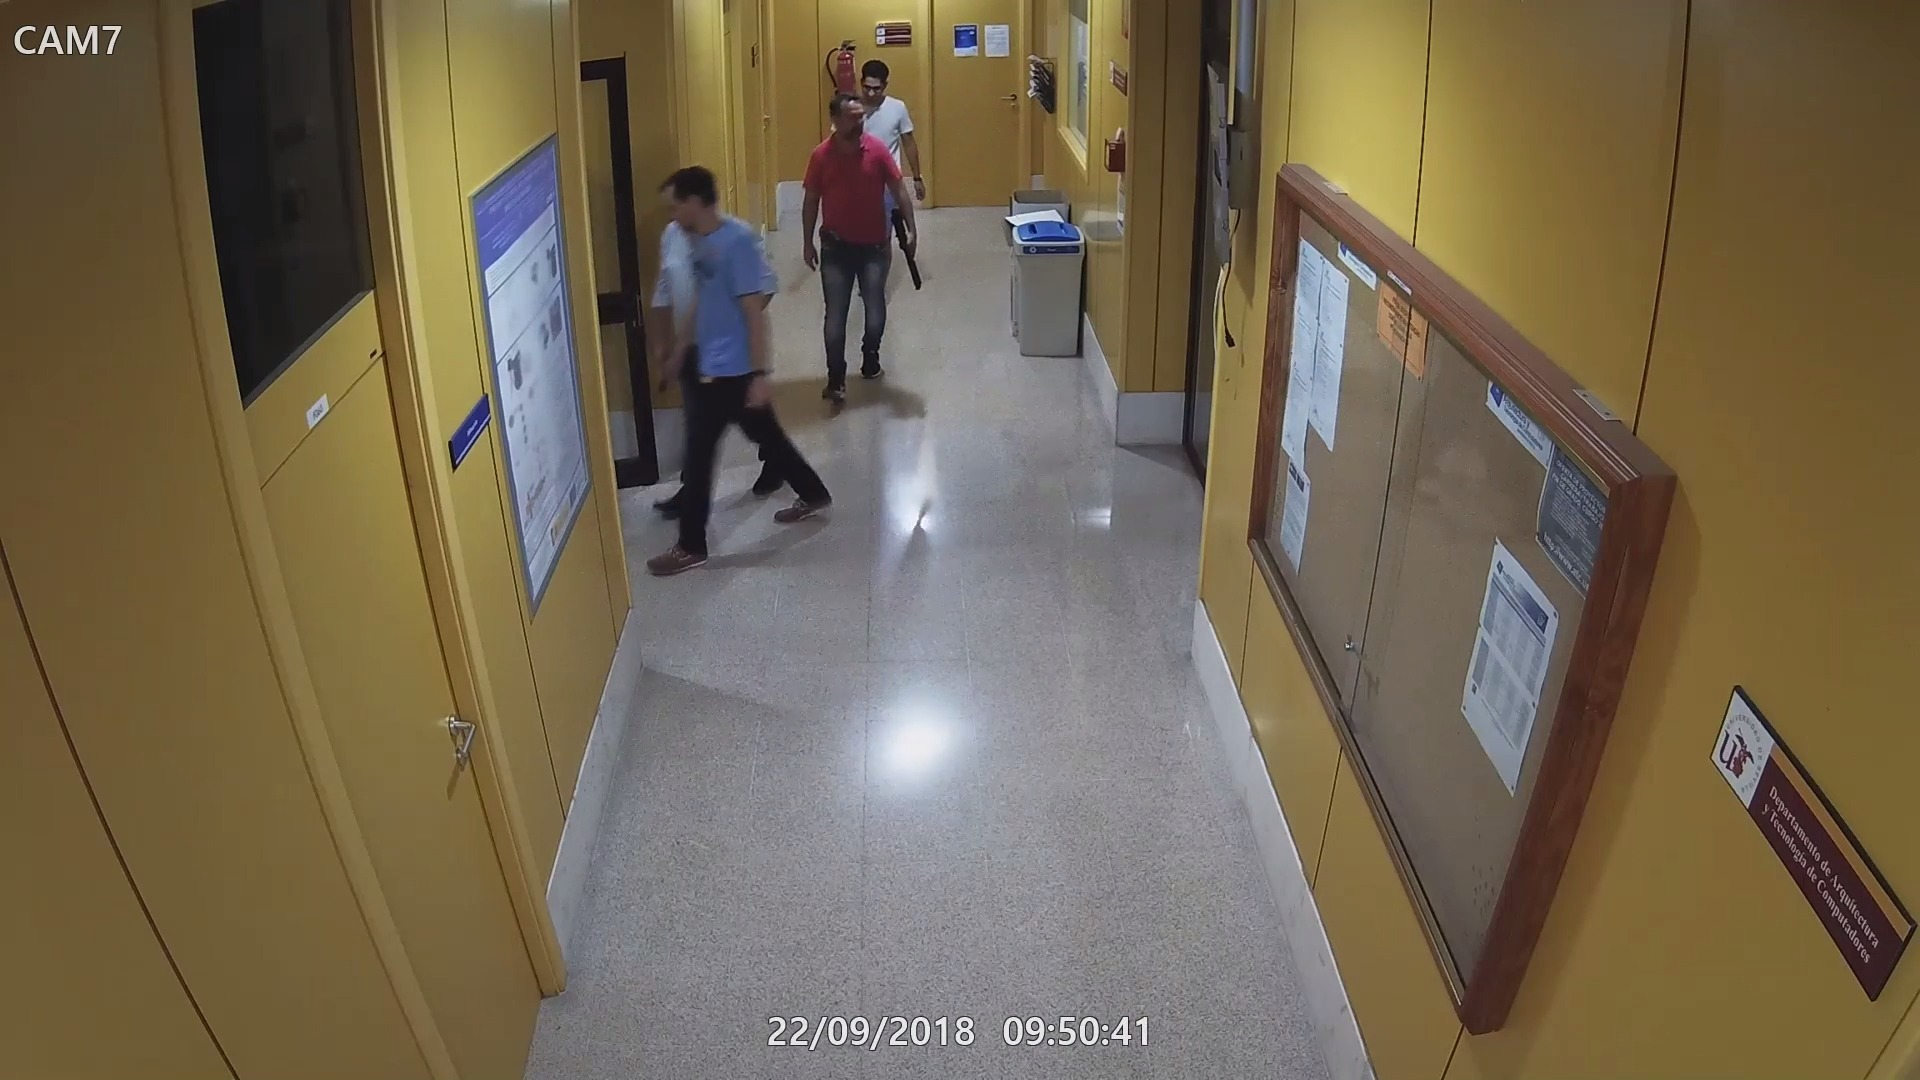Handgun: (651, 351, 669, 394)
Short_rifle: (887, 204, 924, 291)
